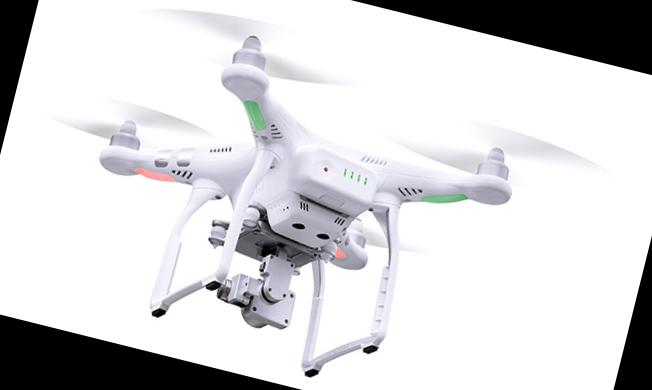drone: (37, 0, 587, 361)
